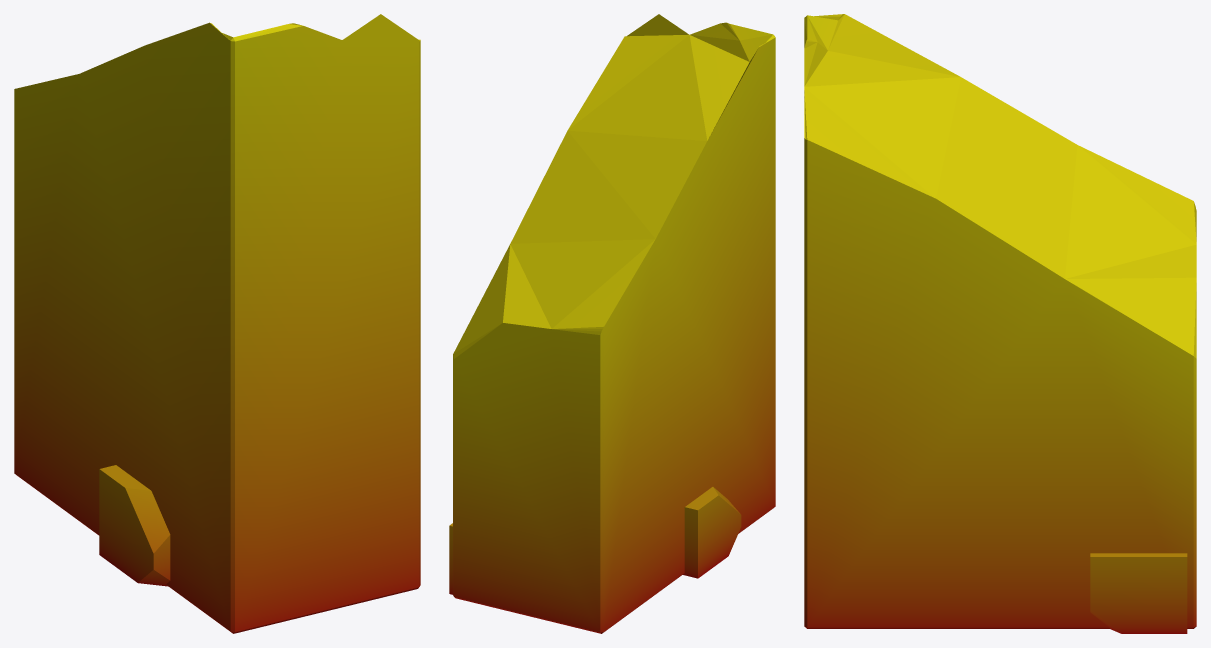
The model's file is bridge_pier_broken.glb.
The picture shows the model from 3 angles, left to right: view 1: azimuth 30°, elevation 25°; view 2: azimuth 150°, elevation 25°; view 3: azimuth 270°, elevation 25°; orthographic projection. The views are drawn at different scales.
Parts seen in each view (by area): view 1: bridge_pier_broken; view 2: bridge_pier_broken; view 3: bridge_pier_broken.
Boxes of the visible parts, x1,y1,x2,y2 form: bridge_pier_broken: (14,14,420,633); bridge_pier_broken: (449,14,775,633); bridge_pier_broken: (804,14,1196,633).
Size of what is drawn, in the model's own units: 2.26 by 6 by 4.
